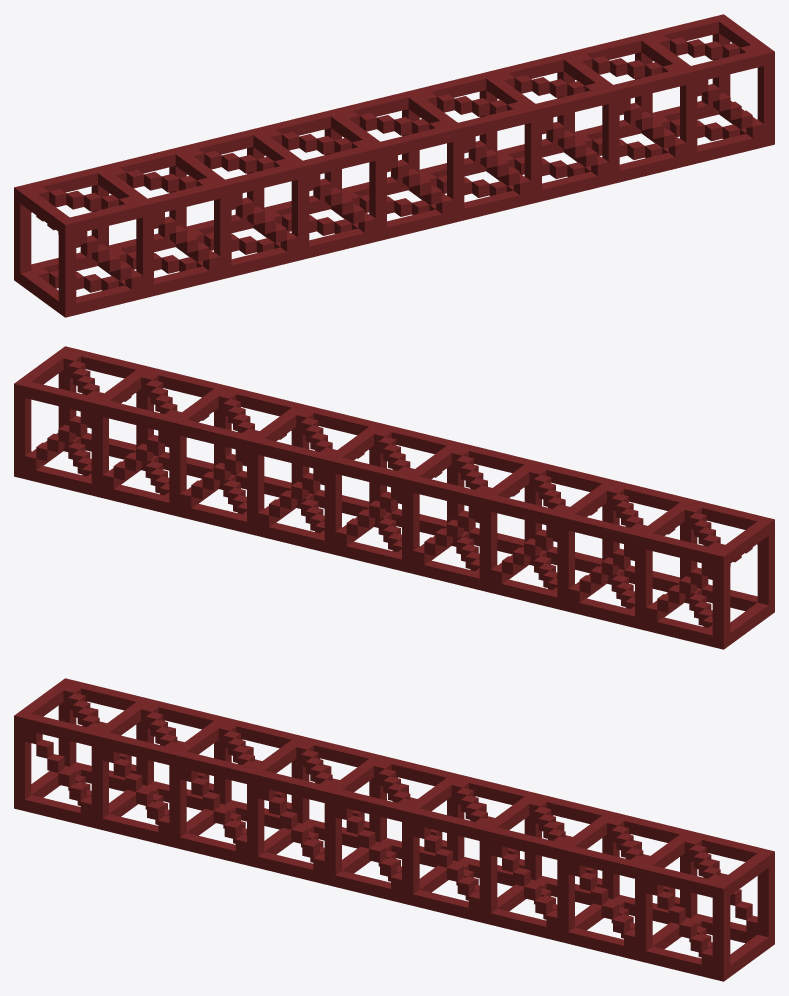
The model's file is crane01.obj.
3 renders of one model, top to bottom at view 1: azimuth 30°, elevation 25°; view 2: azimuth 150°, elevation 25°; view 3: azimuth 330°, elevation 25°, orthographic.
Visible parts, largest first — view 1: crane01; view 2: crane01; view 3: crane01.
Boxes of the visible parts, <box> form: crane01: <box>14,14,774,317</box>; crane01: <box>14,346,774,649</box>; crane01: <box>14,678,774,981</box>.
Bounding box in the file's own units: 64 × 8 × 8.
1 material, 1 textured.
